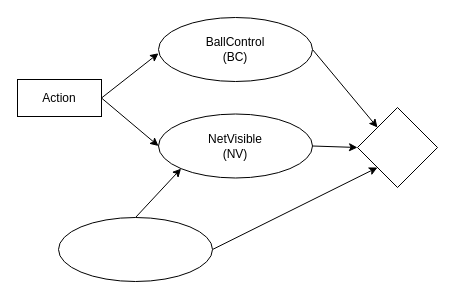
The diagram is 455 pixels wide and 299 high, and some of its shapes have lost their labels. Here are the shapes that lost their labels. From the top down, the centre of each, then its label:
At (x=397, y=147): "utility".
At (x=135, y=249): "OpponentNear (ON)".
